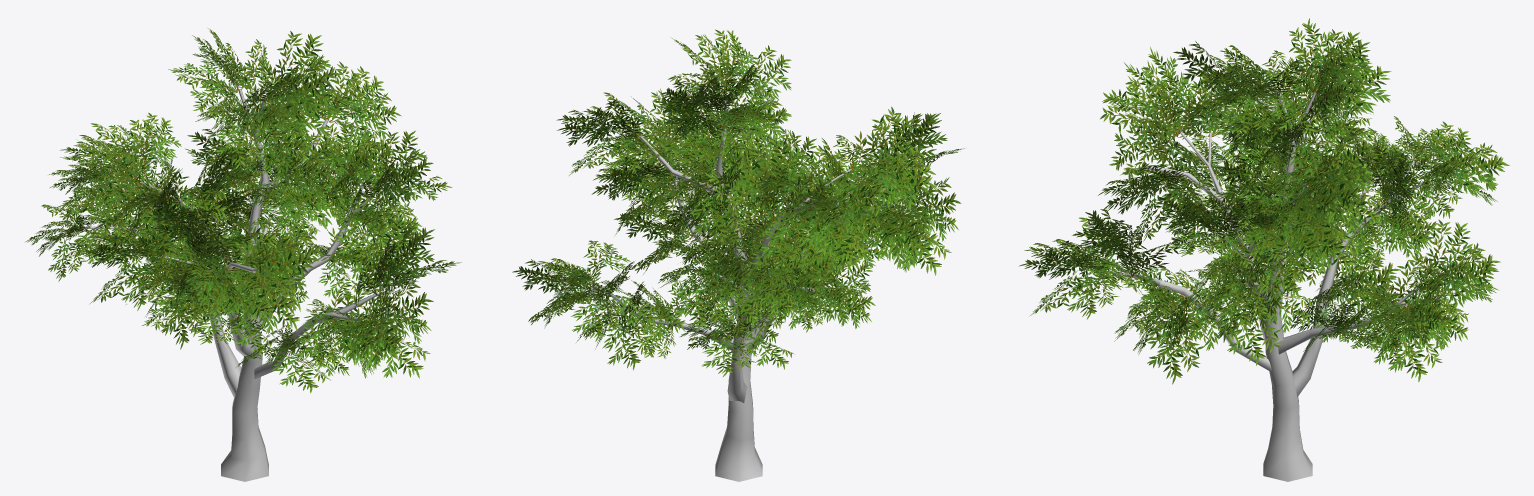
The model's file is FFP ppg_Tree_04_terrain.fbx.
The picture shows the model from 3 angles, left to right: view 1: azimuth 30°, elevation 25°; view 2: azimuth 150°, elevation 25°; view 3: azimuth 270°, elevation 25°; orthographic projection. The views are drawn at different scales.
Parts seen in each view (by area): view 1: polySurface133; view 2: polySurface133; view 3: polySurface133.
Boxes of the visible parts, bbox=[...] form: polySurface133: bbox=[25, 28, 461, 481]; polySurface133: bbox=[512, 29, 964, 481]; polySurface133: bbox=[1019, 18, 1509, 481].
Size of the model in its own units: 5169 by 5676 by 5806.
